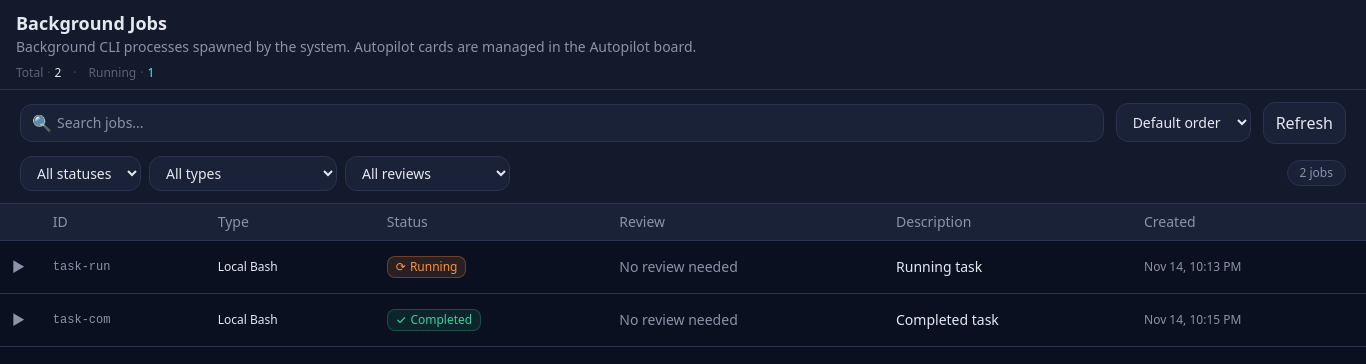
Test: TasksPage filters › searches tasks by description
Expected: the text "Running task" is shown, [896,256,982,276]
Step 1. Type "Completed" into the field with placeholder "Search jobs..." → [562, 122], box [20,104,1104,142]
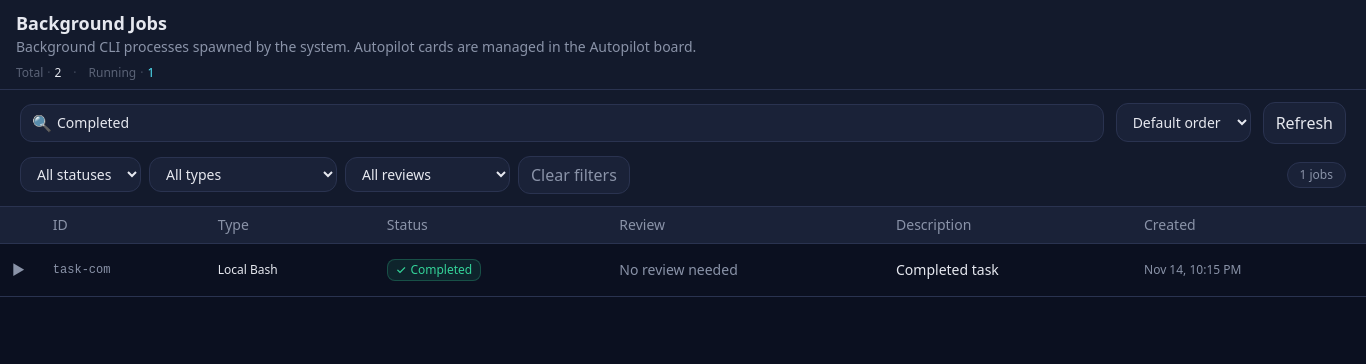
Expected: the text "Completed task" is shown, [896,260,999,278]
Expected: the text "Running task" is gone
